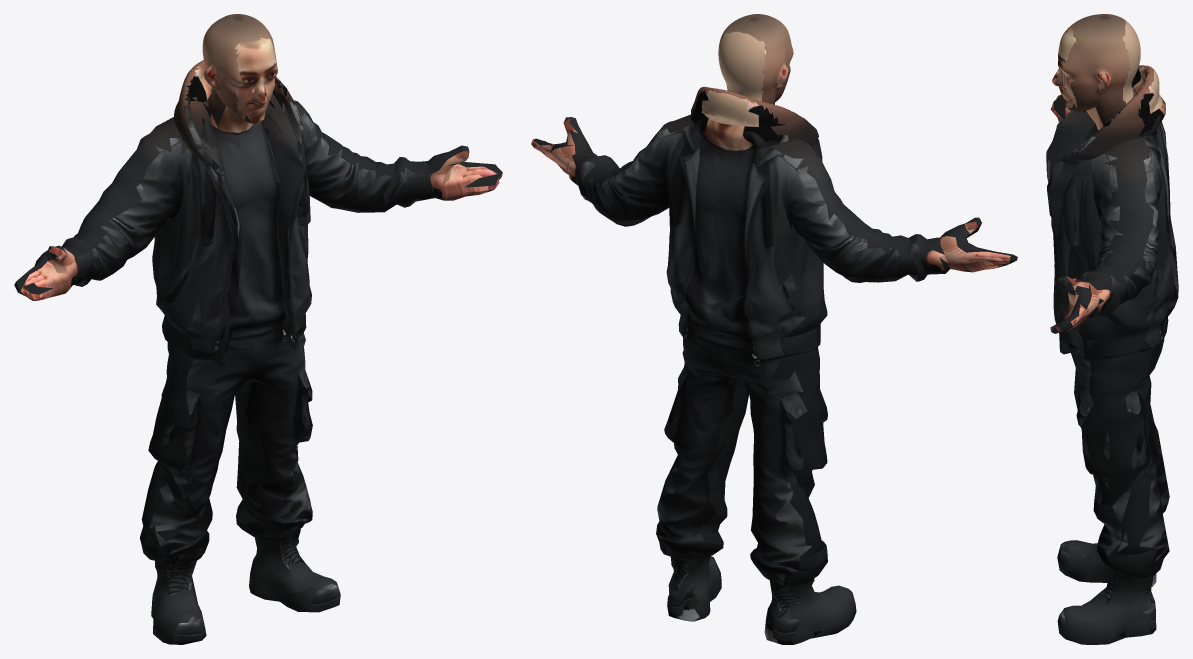
File: techno-raver-prepped.glb
3 renders of one model, left to right at view 1: azimuth 30°, elevation 25°; view 2: azimuth 150°, elevation 25°; view 3: azimuth 270°, elevation 25°, orthographic.
Visible parts, largest first — view 1: Character; view 2: Character; view 3: Character.
Part boxes in pixels (x1,y1,x2,y2): Character: (14, 14, 502, 644); Character: (531, 14, 1017, 644); Character: (1046, 14, 1178, 644).
Size of the model in its own units: 1.49 by 1.75 by 0.3577.
3 materials, 3 textured.
